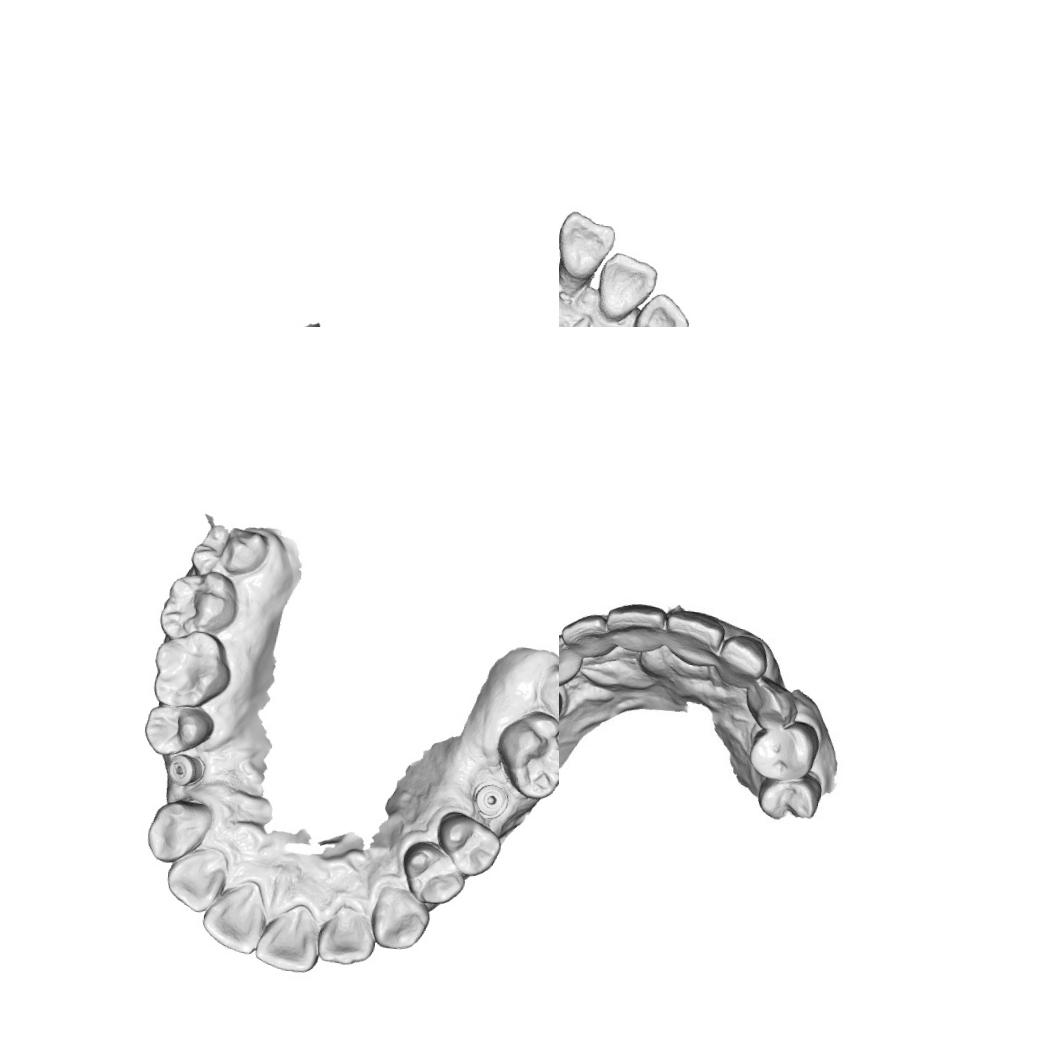canine: (142, 795, 216, 868), (366, 880, 434, 954), (742, 670, 798, 730), (559, 631, 582, 686)
implant: (468, 778, 511, 822)
implant_minus: (164, 751, 207, 789)
incisor: (250, 898, 324, 976), (198, 875, 266, 956), (162, 842, 232, 916), (594, 251, 659, 324), (313, 901, 381, 970), (559, 209, 618, 284), (600, 597, 672, 658), (661, 607, 730, 664), (714, 629, 771, 686), (559, 609, 610, 658), (629, 289, 693, 327)
molar: (148, 626, 236, 713), (156, 564, 243, 647), (490, 706, 559, 804), (188, 522, 271, 580), (533, 660, 559, 731)
premolar: (431, 809, 504, 880), (397, 838, 469, 908), (742, 719, 819, 783), (140, 702, 218, 761), (752, 769, 829, 826)
